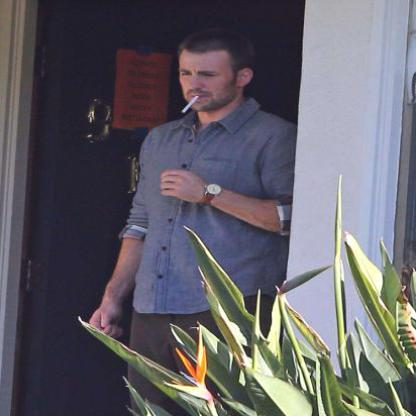cigarette: (180, 92, 202, 115)
person: (118, 29, 299, 384)
